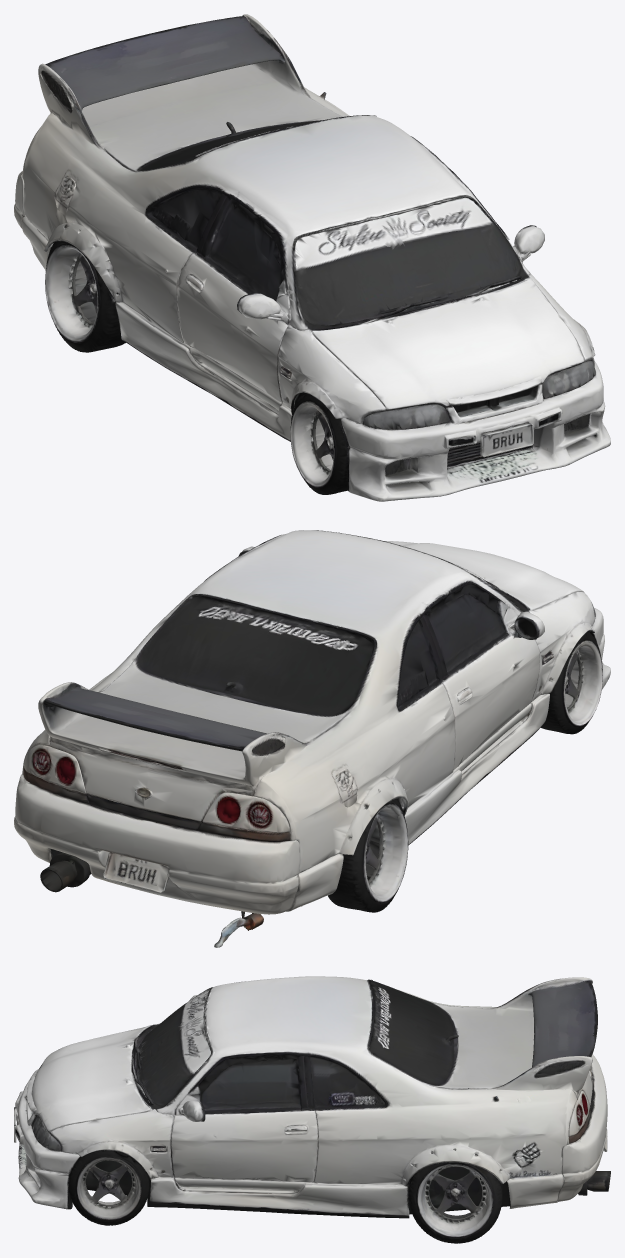
File: bruh.glb
The picture shows the model from 3 angles, top to bottom: view 1: azimuth 30°, elevation 25°; view 2: azimuth 150°, elevation 25°; view 3: azimuth 270°, elevation 25°; orthographic projection. The views are drawn at different scales.
Parts seen in each view (by area): view 1: tripo_node_9d241141-accd-4a8d-be99-09c306d6fef8; view 2: tripo_node_9d241141-accd-4a8d-be99-09c306d6fef8; view 3: tripo_node_9d241141-accd-4a8d-be99-09c306d6fef8.
Boxes of the visible parts, x1,y1,x2,y2 form: tripo_node_9d241141-accd-4a8d-be99-09c306d6fef8: (14, 14, 610, 501); tripo_node_9d241141-accd-4a8d-be99-09c306d6fef8: (14, 530, 610, 947); tripo_node_9d241141-accd-4a8d-be99-09c306d6fef8: (14, 976, 610, 1243).
Size of the model in its own units: 0.4883 by 0.3225 by 0.9814.
1 material, 1 textured.
